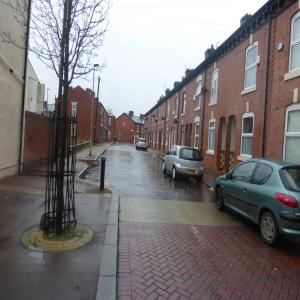Vehicle-registration-plate: (187, 170, 197, 175)
